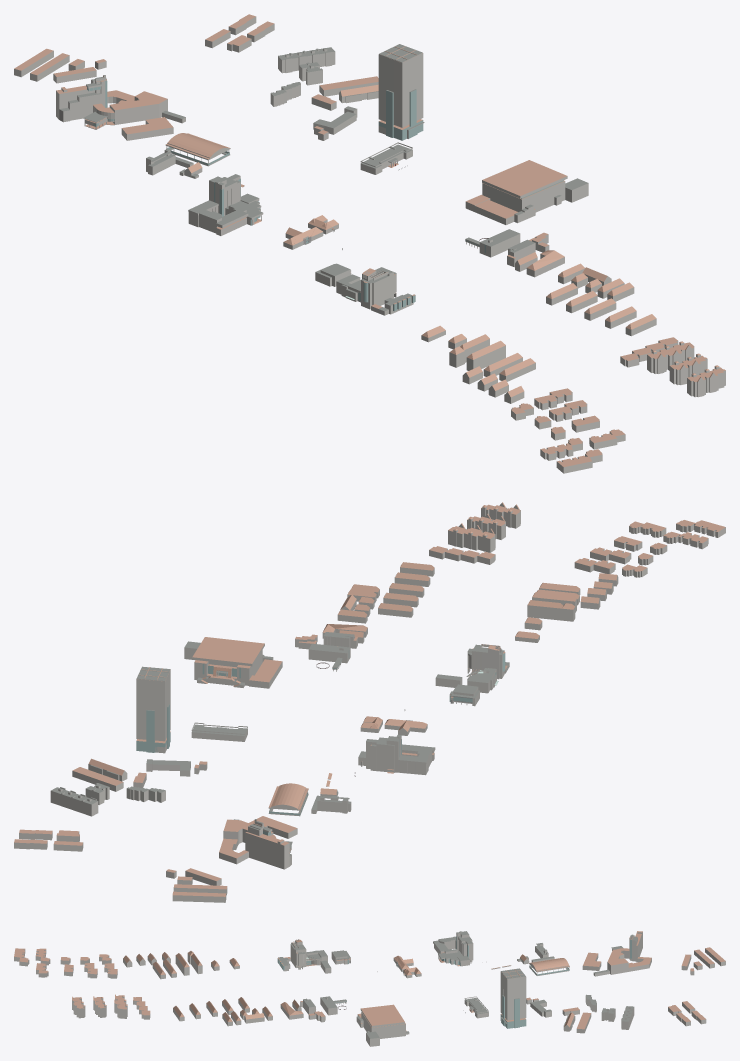
The model's file is gridID_121_high.dae.
The picture shows the model from 3 angles, top to bottom: view 1: azimuth 30°, elevation 25°; view 2: azimuth 150°, elevation 25°; view 3: azimuth 270°, elevation 25°; orthographic projection. The views are drawn at different scales.
Parts seen in each view (by area): view 1: model_gridID_121_w375224849_017, model_gridID_121_w375224849_032, model_gridID_121_w375224849_019, model_gridID_121_w375224849_009, model_gridID_121_w375224849_016, model_gridID_121_w375224849_018, model_gridID_121_w375224849_100, model_gridID_121_w375224849_069, model_gridID_121_w375224849_014, model_gridID_121_w375224849_068, model_gridID_121_w375224849_011, model_gridID_121_w375224849_076 (+2 smaller); view 2: model_gridID_121_w375224849_017, model_gridID_121_w375224849_032, model_gridID_121_w375224849_019, model_gridID_121_w375224849_009, model_gridID_121_w375224849_069, model_gridID_121_w375224849_018, model_gridID_121_w375224849_016, model_gridID_121_w375224849_100, model_gridID_121_w375224849_014, model_gridID_121_w375224849_058, model_gridID_121_w375224849_011, model_gridID_121_w375224849_068; view 3: model_gridID_121_w375224849_032, model_gridID_121_w375224849_017, model_gridID_121_w375224849_019, model_gridID_121_w375224849_009, model_gridID_121_w375224849_016, model_gridID_121_w375224849_018, model_gridID_121_w375224849_014, model_gridID_121_w375224849_011, model_gridID_121_w375224849_012, model_gridID_121_w375224849_069, model_gridID_121_w375224849_076, model_gridID_121_w375224849_100 (+8 smaller).
Part boxes in pixels (x1,y1,x2,y2): model_gridID_121_w375224849_017: (465,160,588,224); model_gridID_121_w375224849_032: (378,44,424,140); model_gridID_121_w375224849_019: (56,75,167,129); model_gridID_121_w375224849_009: (188,174,263,235); model_gridID_121_w375224849_016: (165,133,230,166); model_gridID_121_w375224849_018: (361,267,396,309); model_gridID_121_w375224849_100: (278,47,335,73); model_gridID_121_w375224849_069: (647,341,694,373); model_gridID_121_w375224849_014: (360,142,412,174); model_gridID_121_w375224849_068: (687,365,725,397); model_gridID_121_w375224849_011: (465,229,520,257); model_gridID_121_w375224849_076: (121,117,173,140); model_gridID_121_w375224849_017: (184,637,282,688); model_gridID_121_w375224849_032: (136,666,170,753); model_gridID_121_w375224849_019: (219,819,292,869); model_gridID_121_w375224849_009: (358,734,435,775); model_gridID_121_w375224849_069: (448,523,495,552); model_gridID_121_w375224849_018: (467,644,505,679); model_gridID_121_w375224849_016: (268,783,308,816); model_gridID_121_w375224849_100: (50,787,98,816); model_gridID_121_w375224849_014: (191,722,247,741); model_gridID_121_w375224849_058: (429,546,495,564); model_gridID_121_w375224849_011: (308,643,350,671); model_gridID_121_w375224849_068: (481,502,520,528); model_gridID_121_w375224849_032: (500,968,526,1028); model_gridID_121_w375224849_017: (356,1004,409,1046); model_gridID_121_w375224849_019: (607,931,651,974); model_gridID_121_w375224849_009: (433,931,473,966); model_gridID_121_w375224849_016: (529,958,569,975); model_gridID_121_w375224849_018: (290,939,306,969); model_gridID_121_w375224849_014: (464,996,488,1018); model_gridID_121_w375224849_011: (320,996,346,1015); model_gridID_121_w375224849_012: (306,950,327,966); model_gridID_121_w375224849_069: (114,994,127,1018); model_gridID_121_w375224849_076: (582,952,601,970); model_gridID_121_w375224849_100: (621,1006,634,1029).
Bounding box in the file's own units: 398 × 1172 × 91.44.
